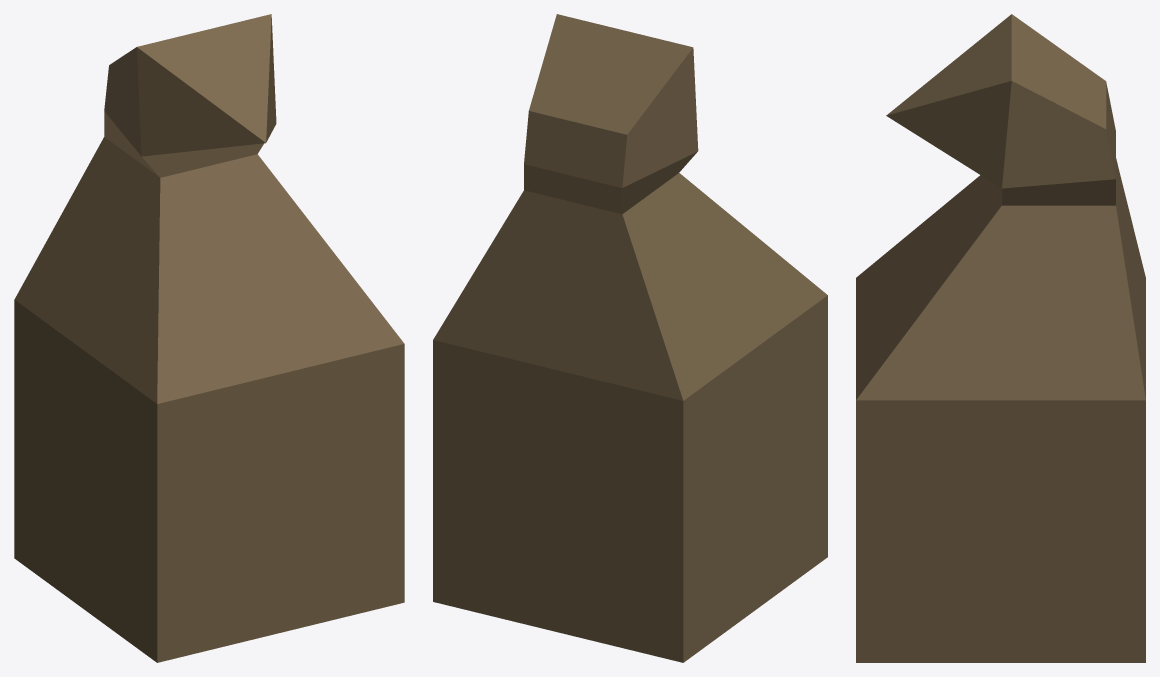
The model's file is knight_black.fbx.
3 renders of one model, left to right at view 1: azimuth 30°, elevation 25°; view 2: azimuth 150°, elevation 25°; view 3: azimuth 270°, elevation 25°, orthographic.
Parts seen in each view (by area): view 1: Cube.010; view 2: Cube.010; view 3: Cube.010.
Boxes of the visible parts, <box> form: Cube.010: <box>14,14,404,662</box>; Cube.010: <box>433,14,827,662</box>; Cube.010: <box>856,14,1145,662</box>.
Size of the model in its own units: 2.8 by 5.9 by 2.8.
